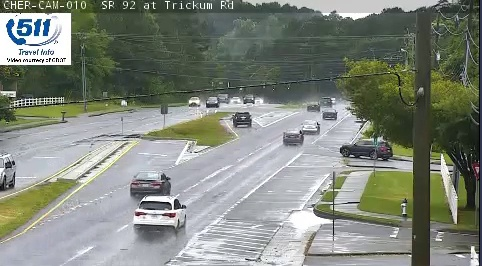car: (134, 195, 186, 229), (130, 170, 170, 196), (282, 129, 303, 145), (233, 111, 252, 125), (302, 120, 319, 134), (323, 108, 337, 120)
